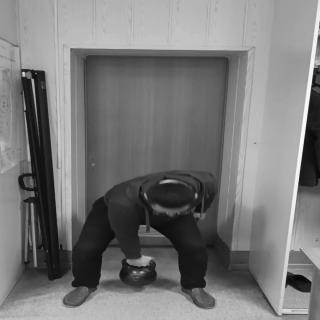kettlebell: (119, 259, 159, 289)
